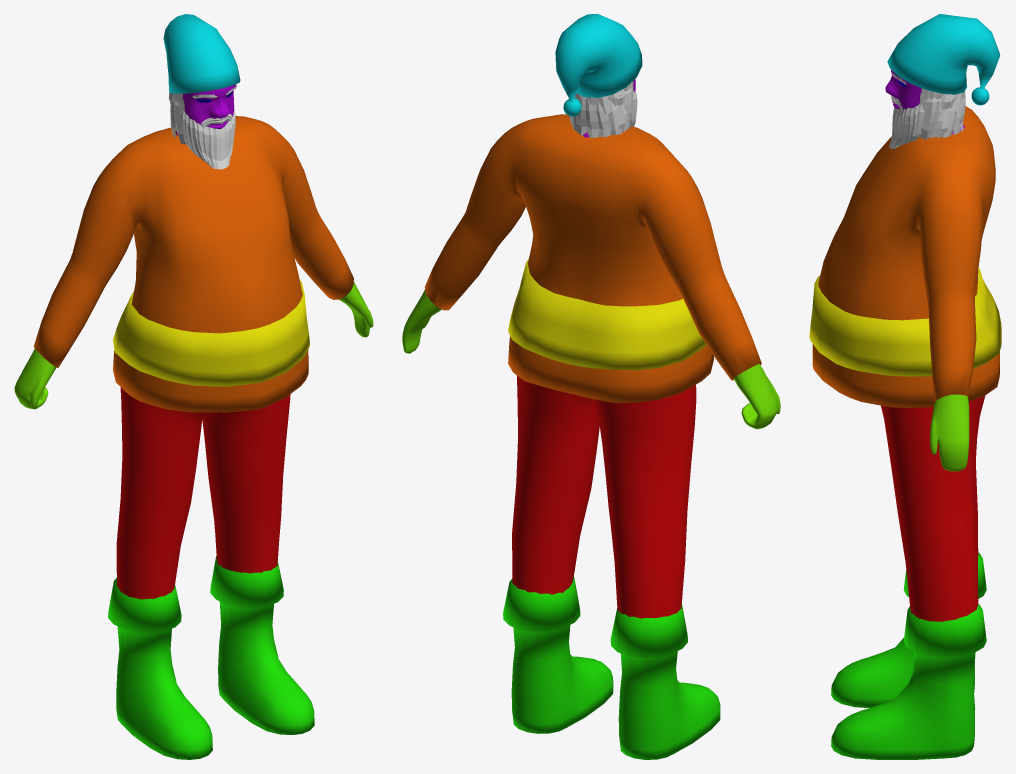
File: Santa.fbx
The picture shows the model from 3 angles, left to right: view 1: azimuth 30°, elevation 25°; view 2: azimuth 150°, elevation 25°; view 3: azimuth 270°, elevation 25°; orthographic projection. The views are drawn at different scales.
Visible parts, largest first — view 1: Santa.001, Hair/Beard.003; view 2: Santa.001, Hair/Beard.003; view 3: Santa.001, Hair/Beard.003.
Part boxes in pixels (x1,y1,x2,y2): Santa.001: (14, 14, 373, 759); Hair/Beard.003: (168, 85, 237, 169); Santa.001: (402, 14, 780, 759); Hair/Beard.003: (569, 81, 637, 137); Santa.001: (809, 14, 1001, 759); Hair/Beard.003: (889, 73, 965, 148).
Bounding box in the file's own units: 1.37 × 2.56 × 0.633.
